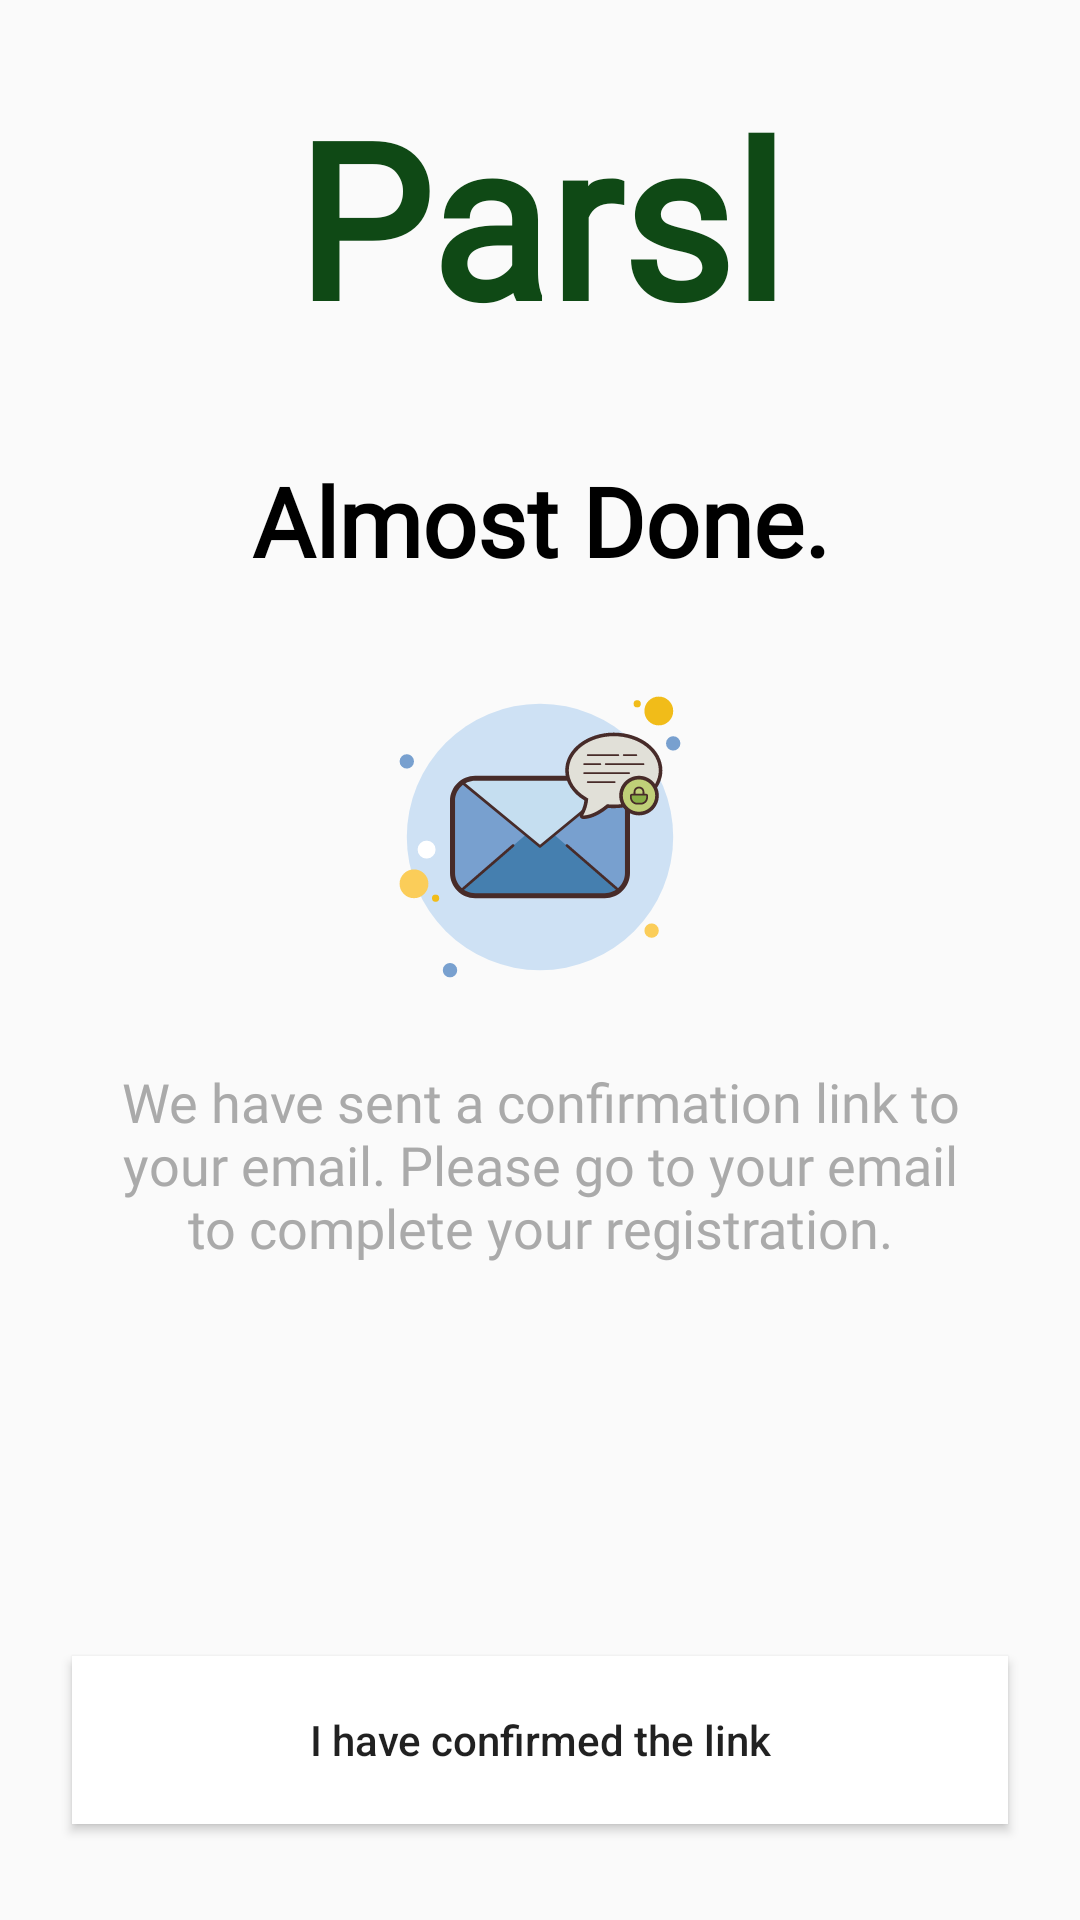

Where to tap for icons on this 1080px×1920px app screen, as (x,y):
verification: (540,837)
